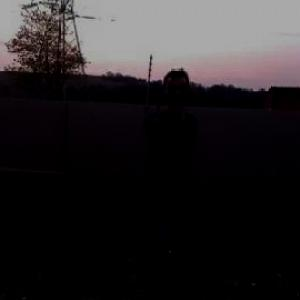takeoff-hand: (151, 94, 180, 130)
